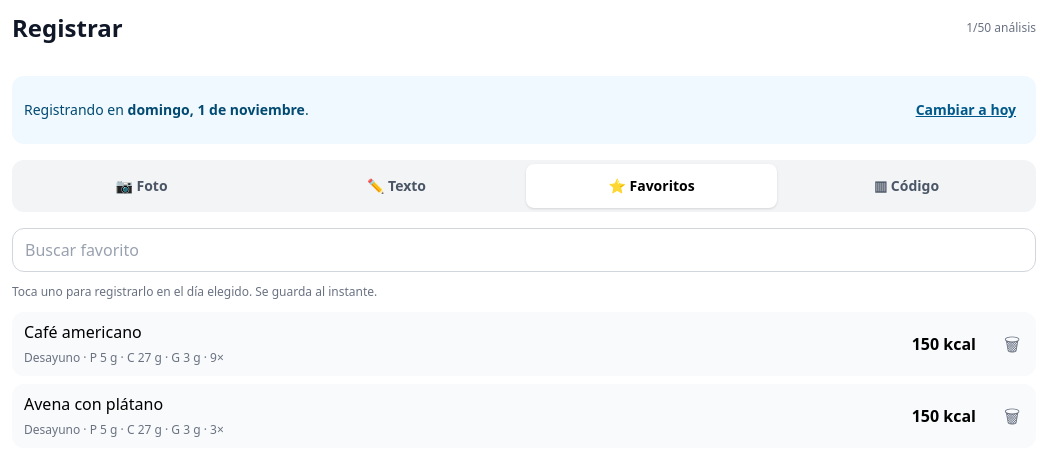
Test: Capturar: favoritos › lista más usados primero, busca y un toque registra en el día elegido
The image size is (1048, 454).
Expected: the text "Registrando en" is shown, x1=24 y1=100 x2=128 y2=119
Type "platano" into the search field labelled "Buscar favorito" at [524, 250], box x1=12 y1=228 x2=1036 y2=272
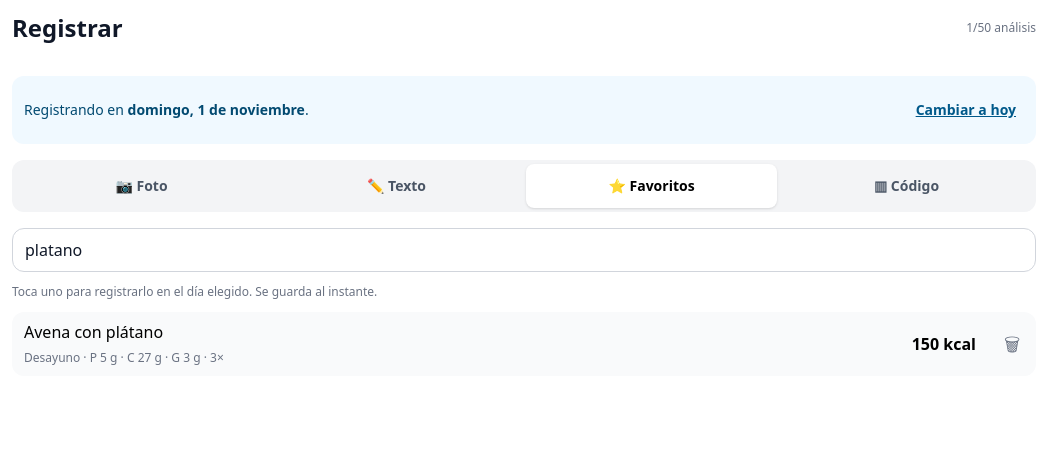
Result: the number of buttons named "Registrar " is 1
Click the button with aria-label "Registrar " at [94, 332], box x1=12 y1=312 x2=988 y2=376
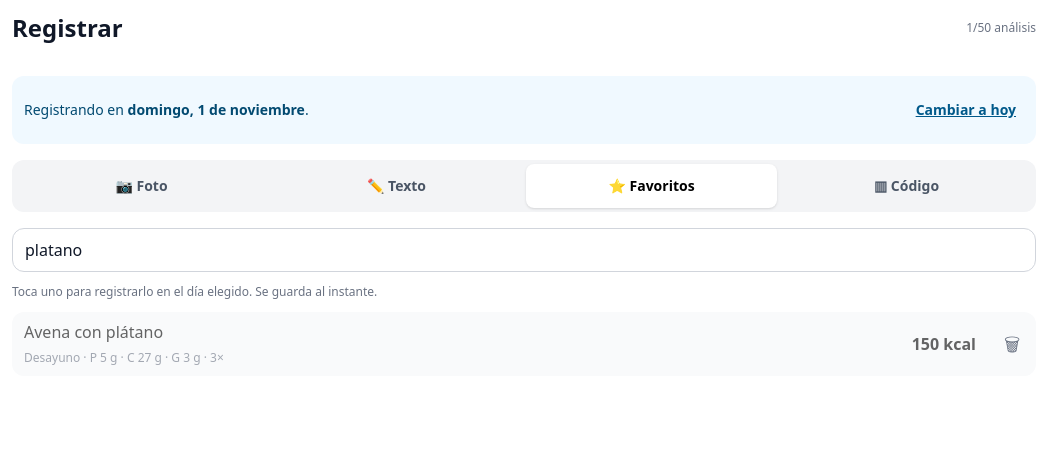
Click the button with aria-label "Registrar " at [94, 332], box x1=12 y1=312 x2=988 y2=376
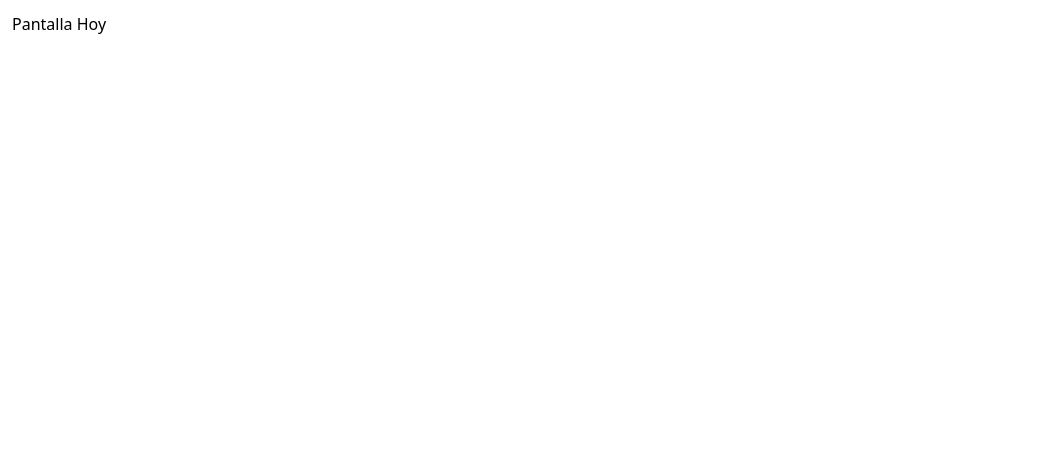
Result: the text "Pantalla Hoy" is shown at x1=12 y1=13 x2=106 y2=35
